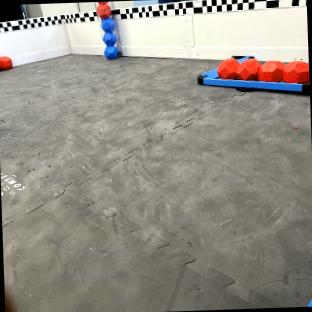V5_BLUE: (101, 17, 118, 58)
V5_RED: (218, 58, 309, 84), (97, 2, 111, 17), (0, 56, 12, 70)
